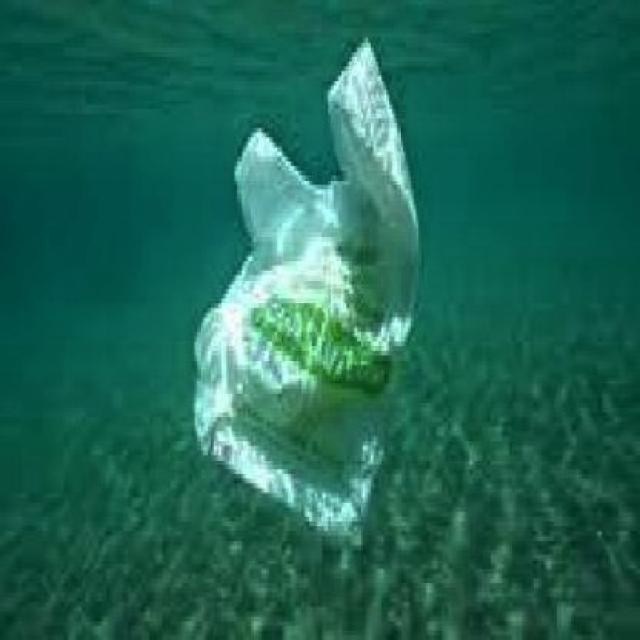pbag: (189, 33, 422, 555)
